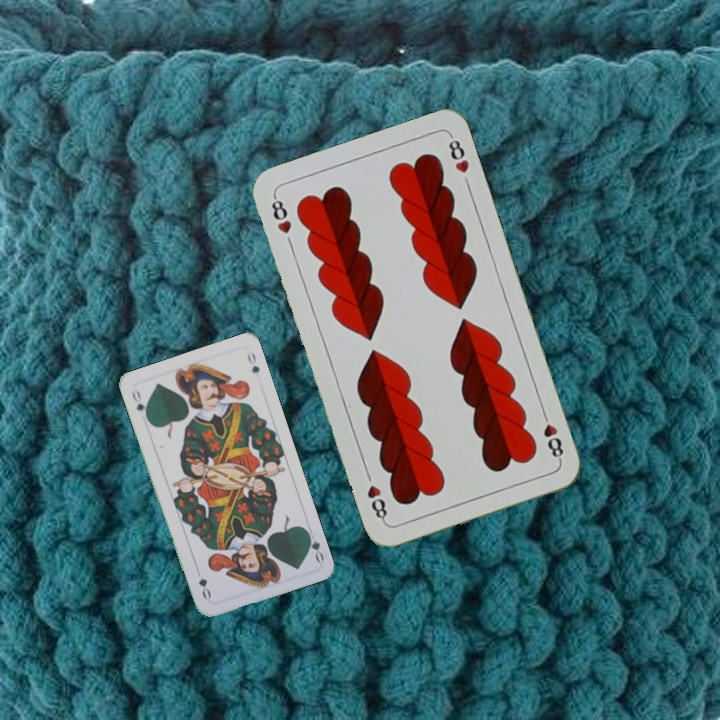GO: (302, 526, 327, 565), (128, 385, 151, 423)
H8: (538, 407, 566, 464), (267, 192, 294, 237)
